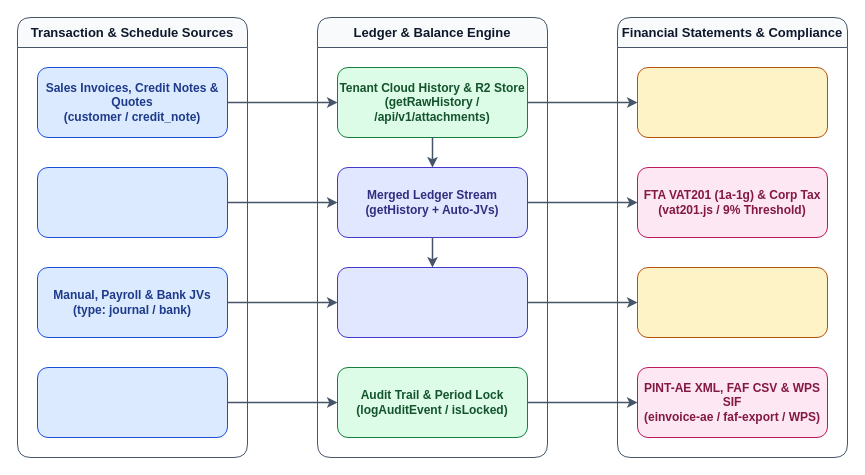
Some shapes in this 865 by 475 pixel diagram are drawn without their labels. The shapes that lost their labels are listed below. From the top down, each one's centre as x and y in pixels, then its label:
At point 732,102: "Executive KPIs & SOA (Runway / Burn / Net Rev / AR / AP)".
At point 132,202: "Supplier Bills, Direct Expenses & POs (supplier / expense)".
At point 432,302: "Account Balance Aggregator (getCalculatedBalances)".
At point 732,302: "P&L, Balance Sheet, Cash Flow, Equity Statement & FP&A Reports".
At point 132,402: "Fixed Assets, Accruals & Def. Rev (DEPR / AMRT / 5000 COGS / 2150 USE)".
